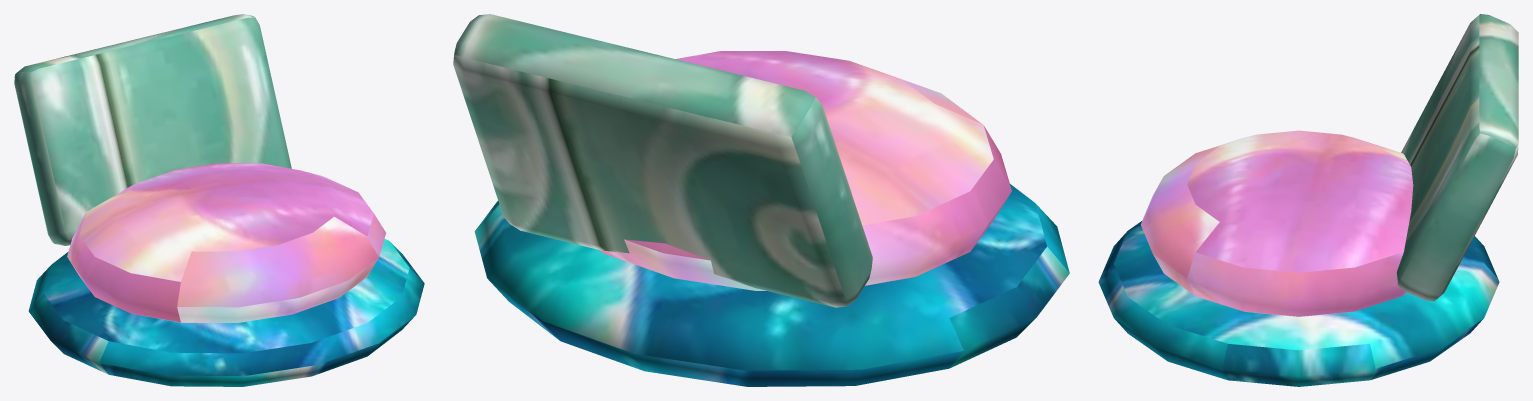
Rendered from rebote_mar.glb.
The picture shows the model from 3 angles, left to right: view 1: azimuth 30°, elevation 25°; view 2: azimuth 150°, elevation 25°; view 3: azimuth 270°, elevation 25°; orthographic projection. The views are drawn at different scales.
Visible parts, largest first — view 1: rebote_mar; view 2: rebote_mar; view 3: rebote_mar.
Boxes of the visible parts, left/top/right/bottom form: rebote_mar: left=14, top=14, right=424, bottom=386; rebote_mar: left=453, top=14, right=1069, bottom=386; rebote_mar: left=1098, top=14, right=1518, bottom=386.
Size of the model in its own units: 1 by 0.6442 by 0.9475.
Materials: 3 (3 with a texture image).
